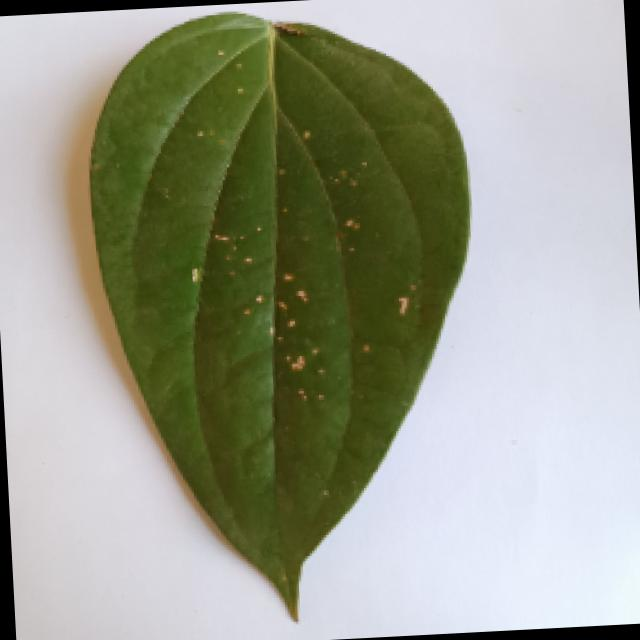pollu-disease: (48, 10, 530, 633)
